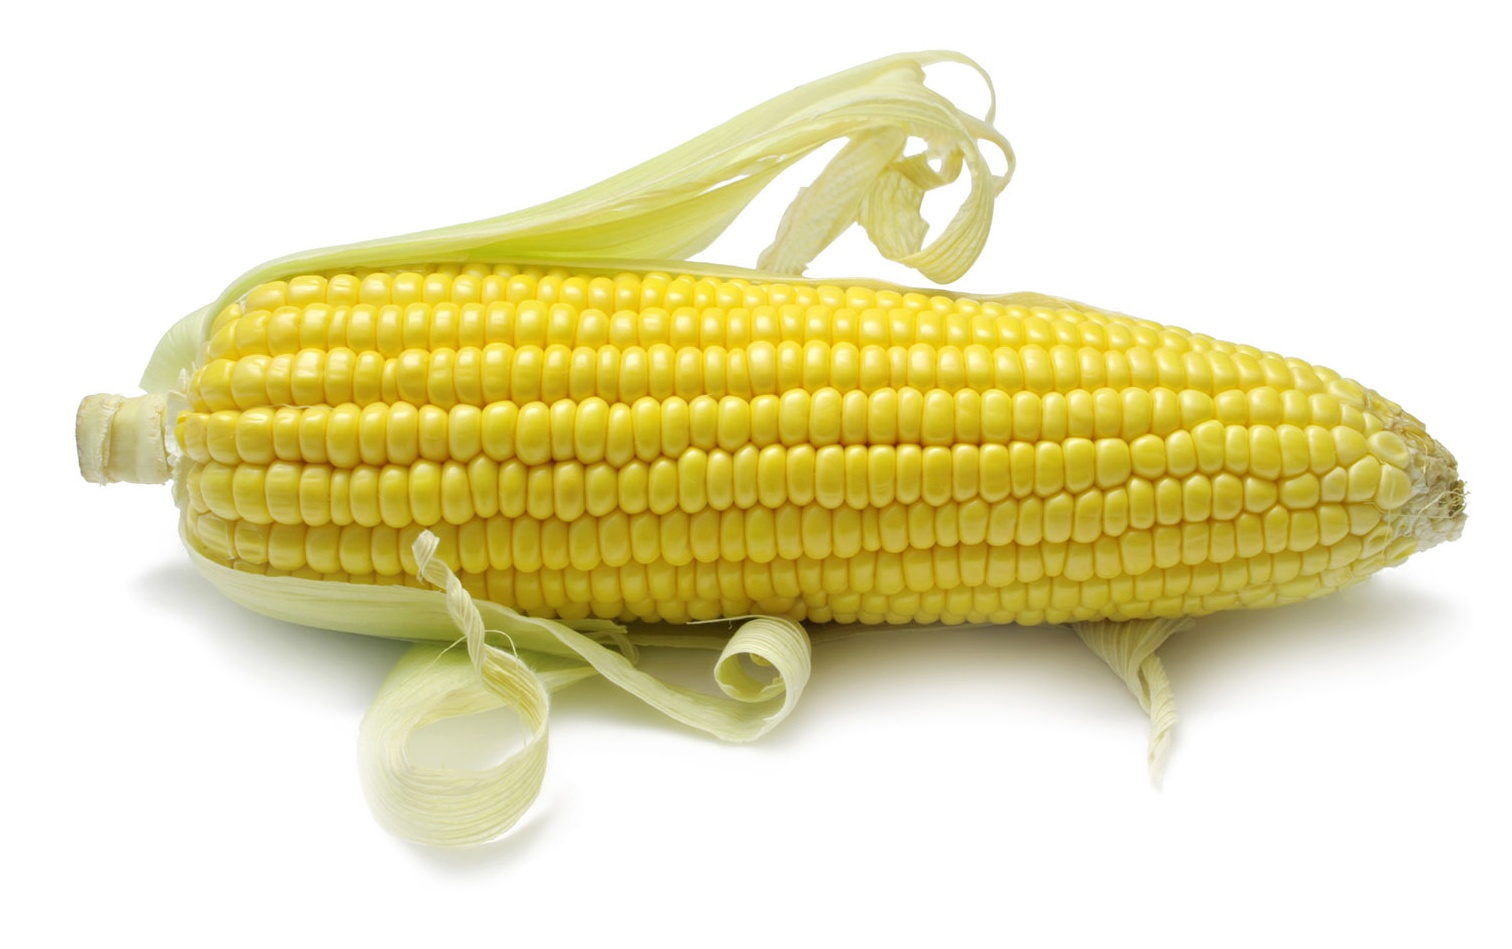corn: (73, 169, 1485, 672)
